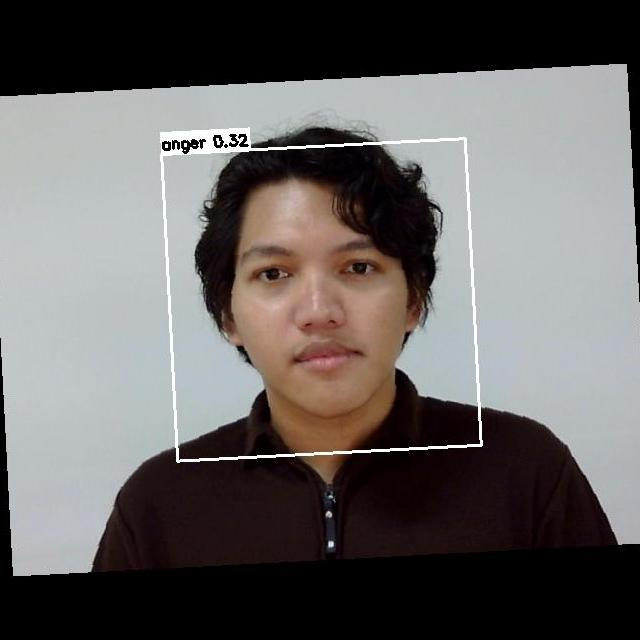Natural: (231, 220, 414, 399)
